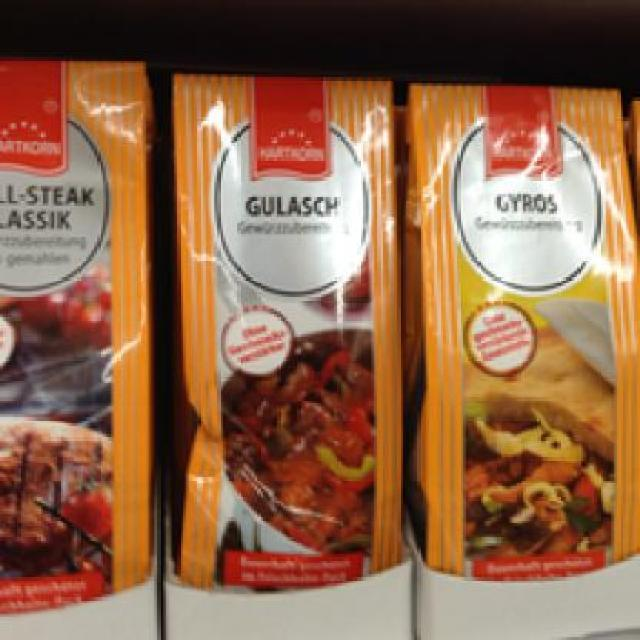Spices: (168, 69, 398, 592), (402, 80, 638, 577), (0, 53, 155, 612)
